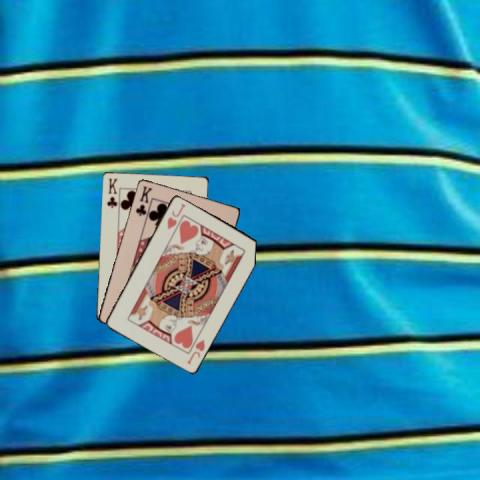Jh: (183, 336, 206, 365), (164, 200, 186, 230)
Kc: (133, 183, 153, 217), (103, 176, 119, 210)
